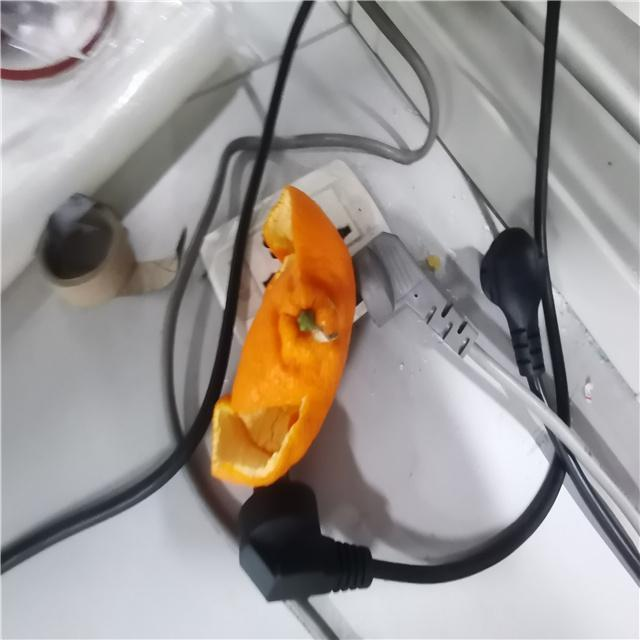orange peel: (193, 180, 359, 488)
